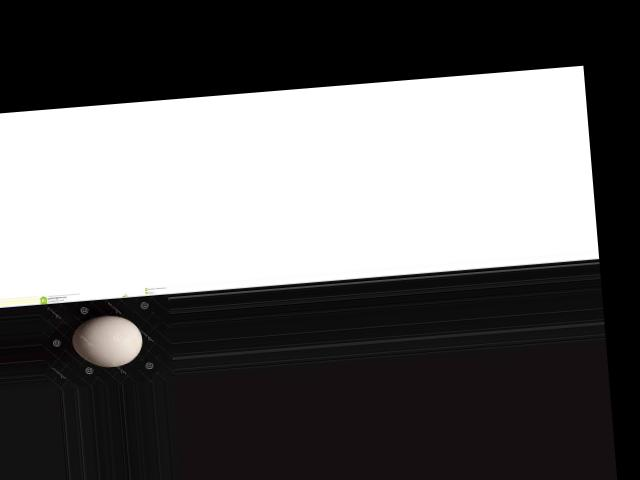egg: (70, 312, 145, 369)
